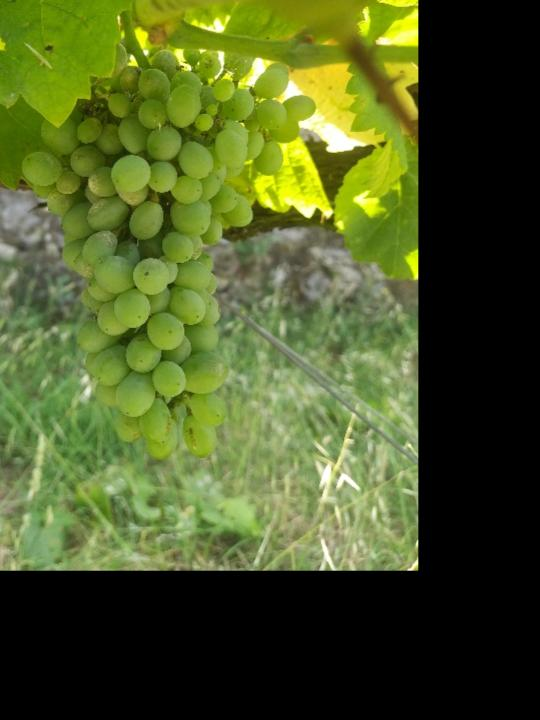grape: (17, 43, 322, 464)
